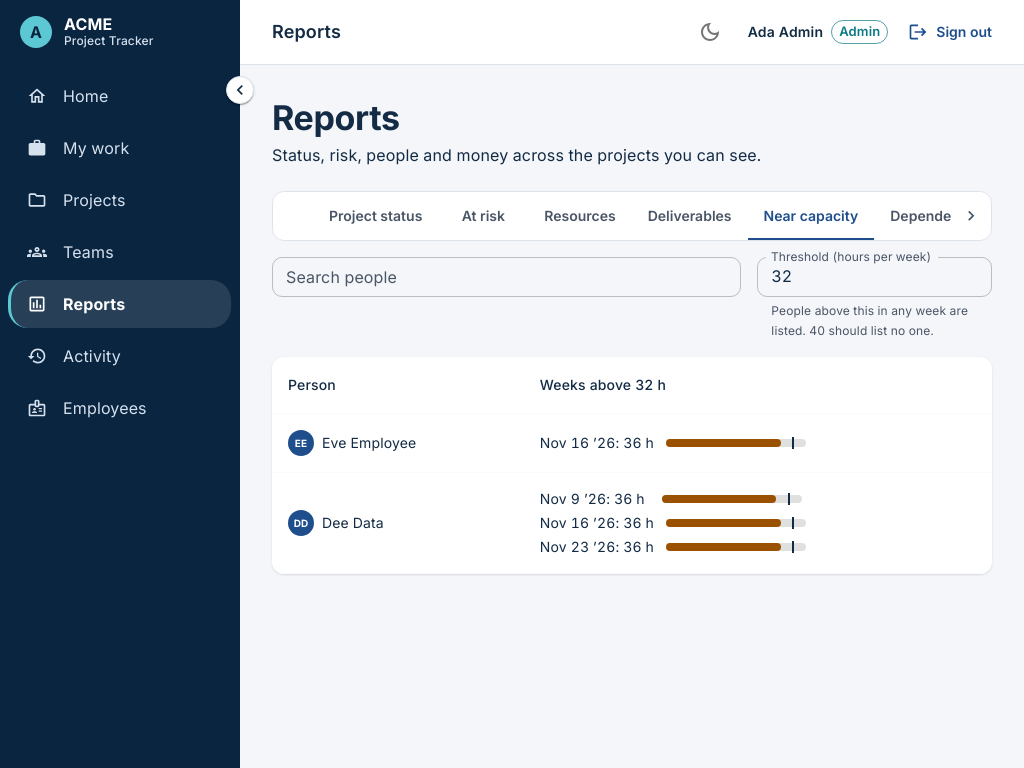
Test: Reports: content › near capacity uses 32 hours by default and the threshold can be changed
Expected: the table named "Near capacity" is shown, x1=272 y1=357 x2=992 y2=574
Expected: the text "Nov 16 ’26: 36 h" next to "Eve Employee" is shown, x1=540 y1=433 x2=654 y2=453
Replace the text in the field labelled "Threshold (hours per week)" with "0" at x=875, y=277, box x1=757 y1=257 x2=992 y2=297
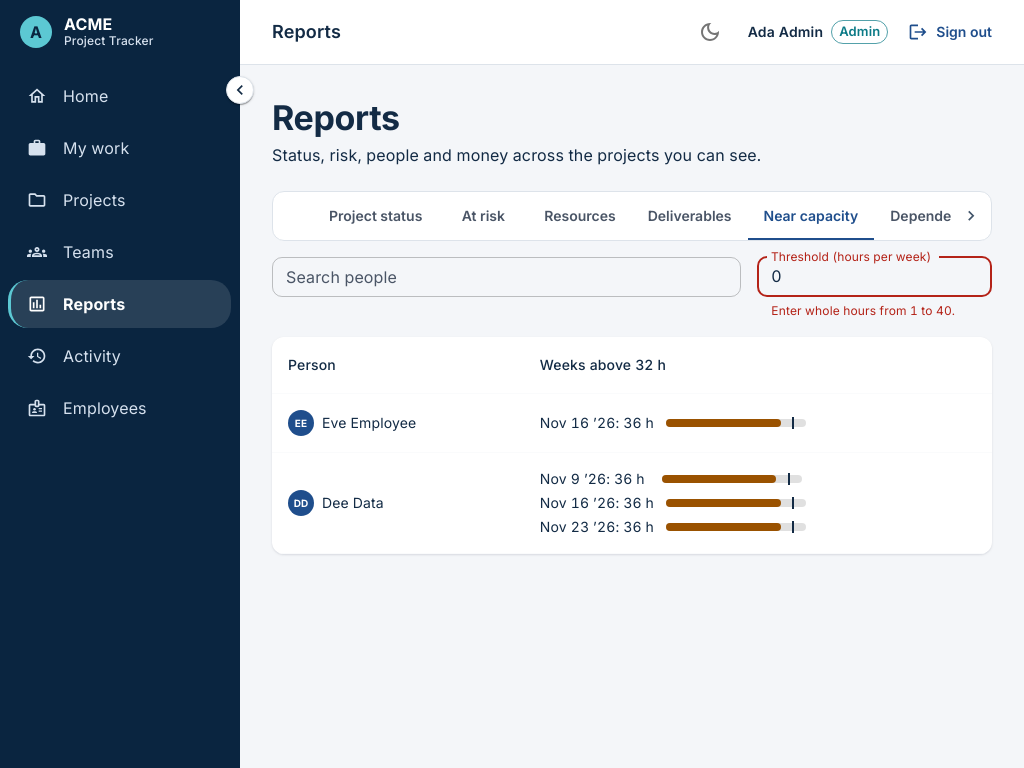
Result: the text "Enter whole hours from 1 to 40." is shown at x1=771 y1=301 x2=978 y2=321
Replace the text in the field labelled "Threshold (hours per week)" with "36" at x=875, y=277, box x1=757 y1=257 x2=992 y2=297
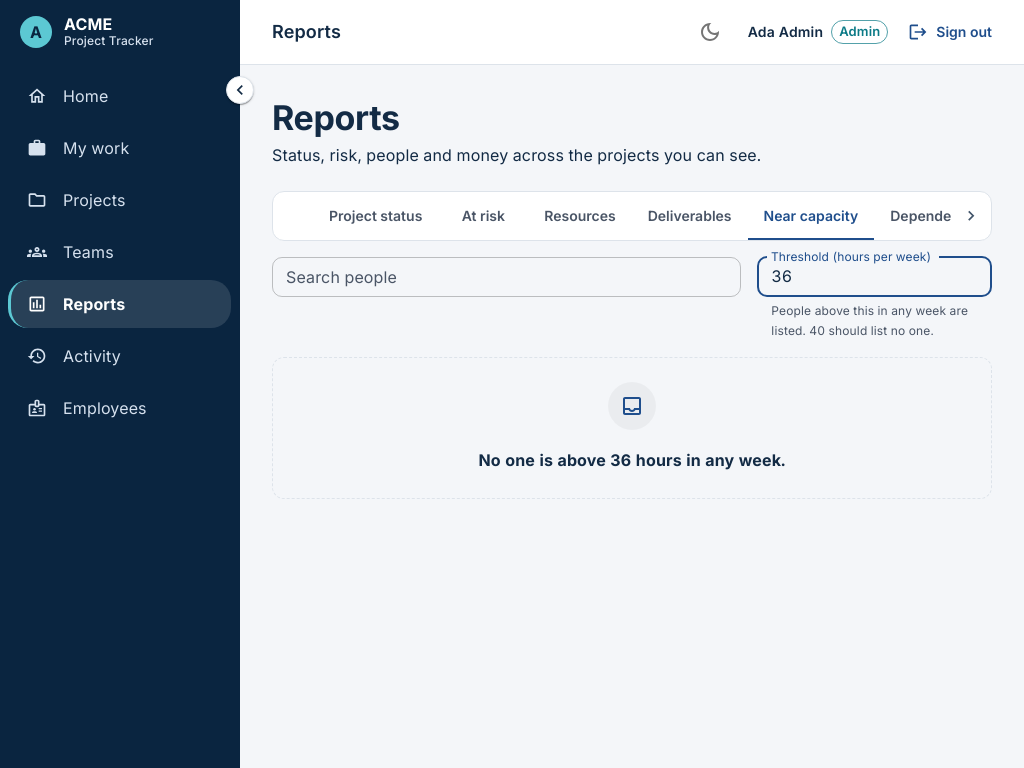
Result: the text "No one is above 36 hours in any week." is shown at x1=478 y1=446 x2=786 y2=474
